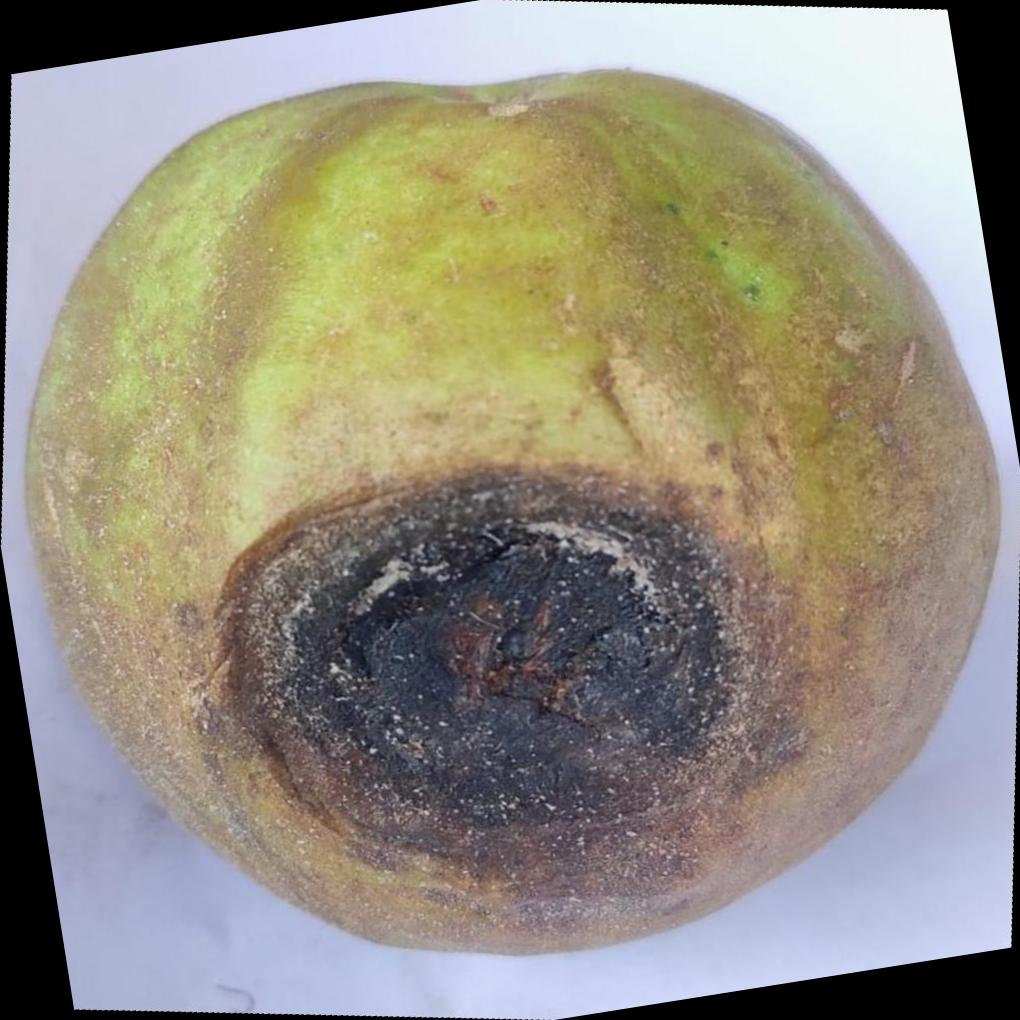FreshOrange: (21, 63, 1000, 955)
